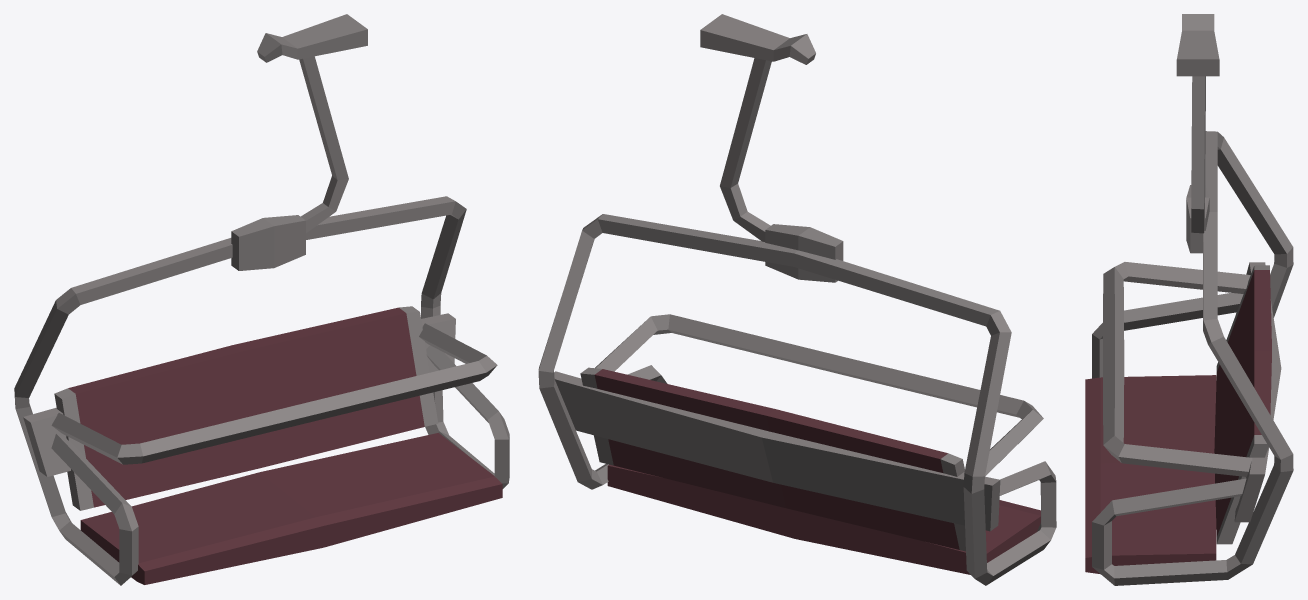
Rendered from ski-lift-seat.fbx.
The picture shows the model from 3 angles, left to right: view 1: azimuth 30°, elevation 25°; view 2: azimuth 150°, elevation 25°; view 3: azimuth 270°, elevation 25°; orthographic projection. The views are drawn at different scales.
Parts seen in each view (by area): view 1: ski-lift-seat; view 2: ski-lift-seat; view 3: ski-lift-seat.
Part boxes in pixels (<box>): ski-lift-seat: <box>14,14,509,585</box>; ski-lift-seat: <box>538,14,1056,585</box>; ski-lift-seat: <box>1085,14,1293,585</box>.
Bounding box in the file's own units: 2.53 × 2.67 × 1.05.
